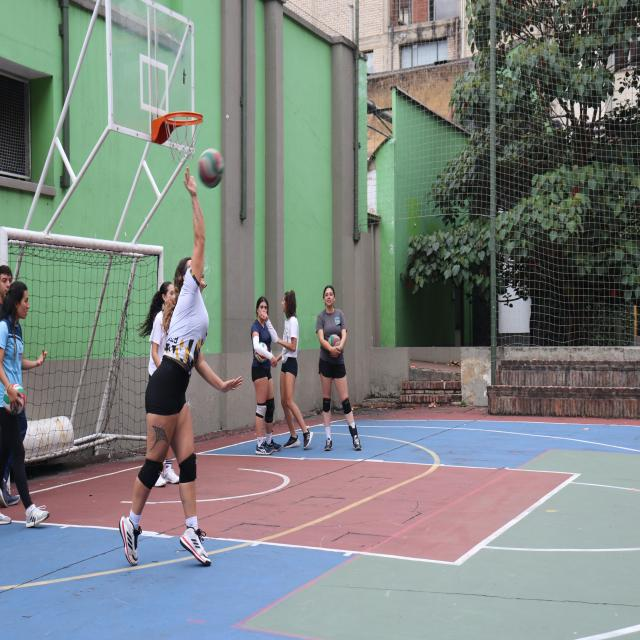volleyball: (198, 147, 224, 189), (328, 334, 341, 347)
